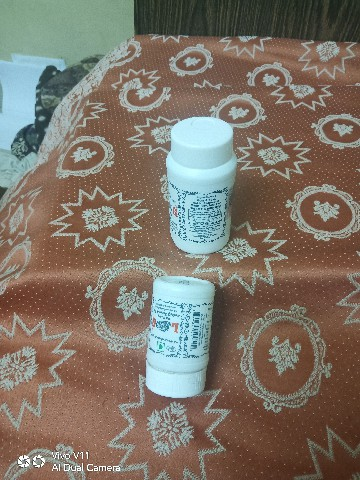lgasafoetidapowder large: (160, 105, 248, 262)
lgasafoetidapowder small: (123, 267, 228, 418)
